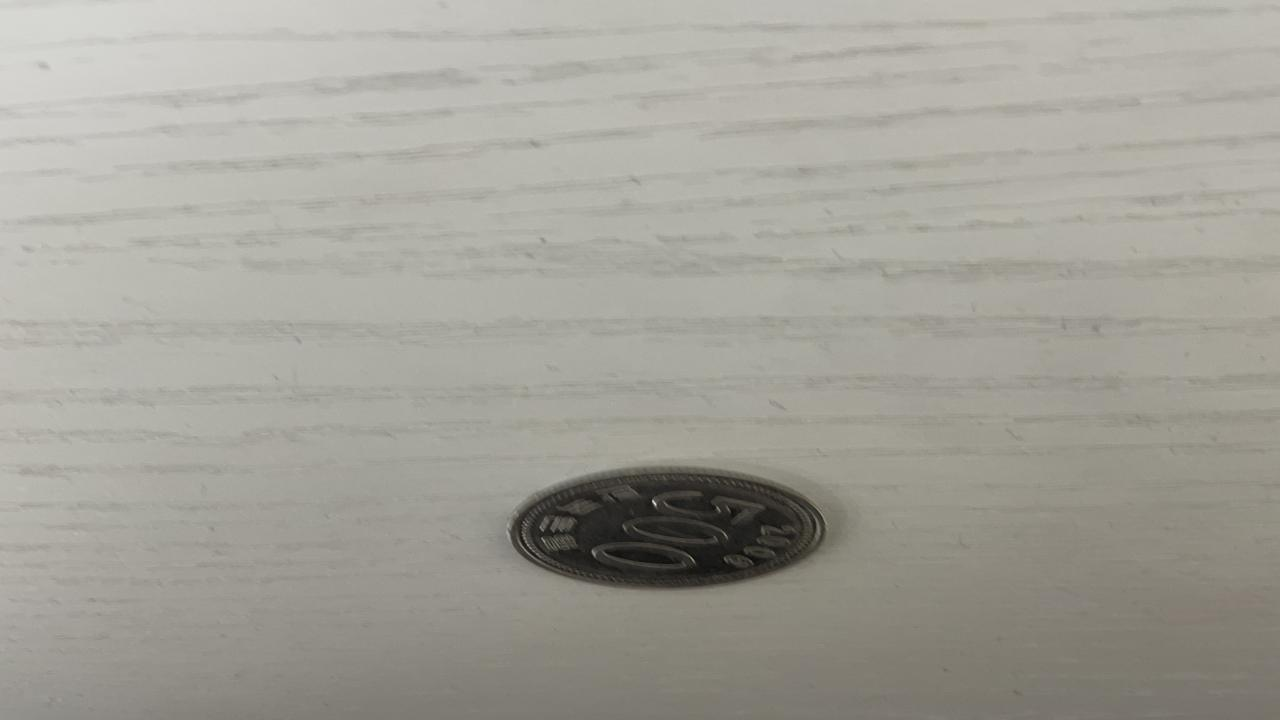coin: (504, 467, 832, 588)
